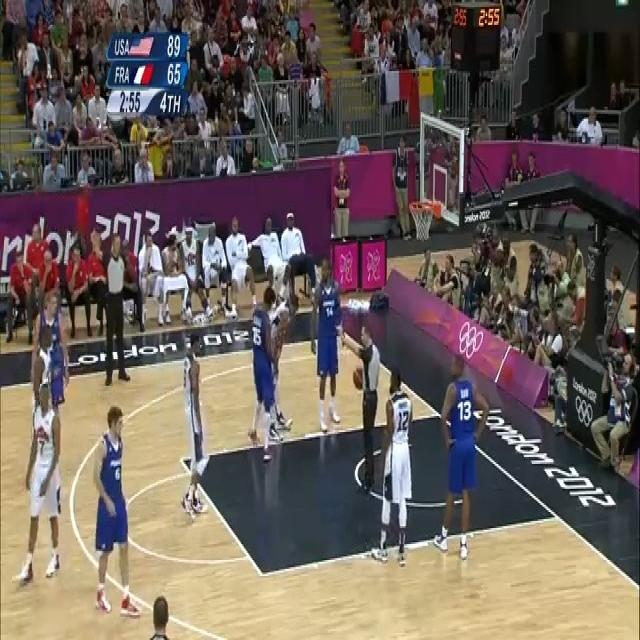basketball: (354, 367, 366, 389)
hoop: (410, 205, 435, 242)
person: (434, 357, 491, 557), (16, 383, 66, 588), (94, 403, 138, 615), (377, 369, 415, 562), (315, 260, 345, 432), (104, 236, 135, 387), (226, 215, 250, 304), (551, 360, 568, 428), (577, 105, 605, 145), (54, 86, 74, 136), (41, 149, 63, 188), (75, 150, 98, 186), (134, 146, 155, 184), (214, 140, 235, 177), (337, 121, 360, 154), (12, 157, 33, 191), (145, 3, 166, 33)
